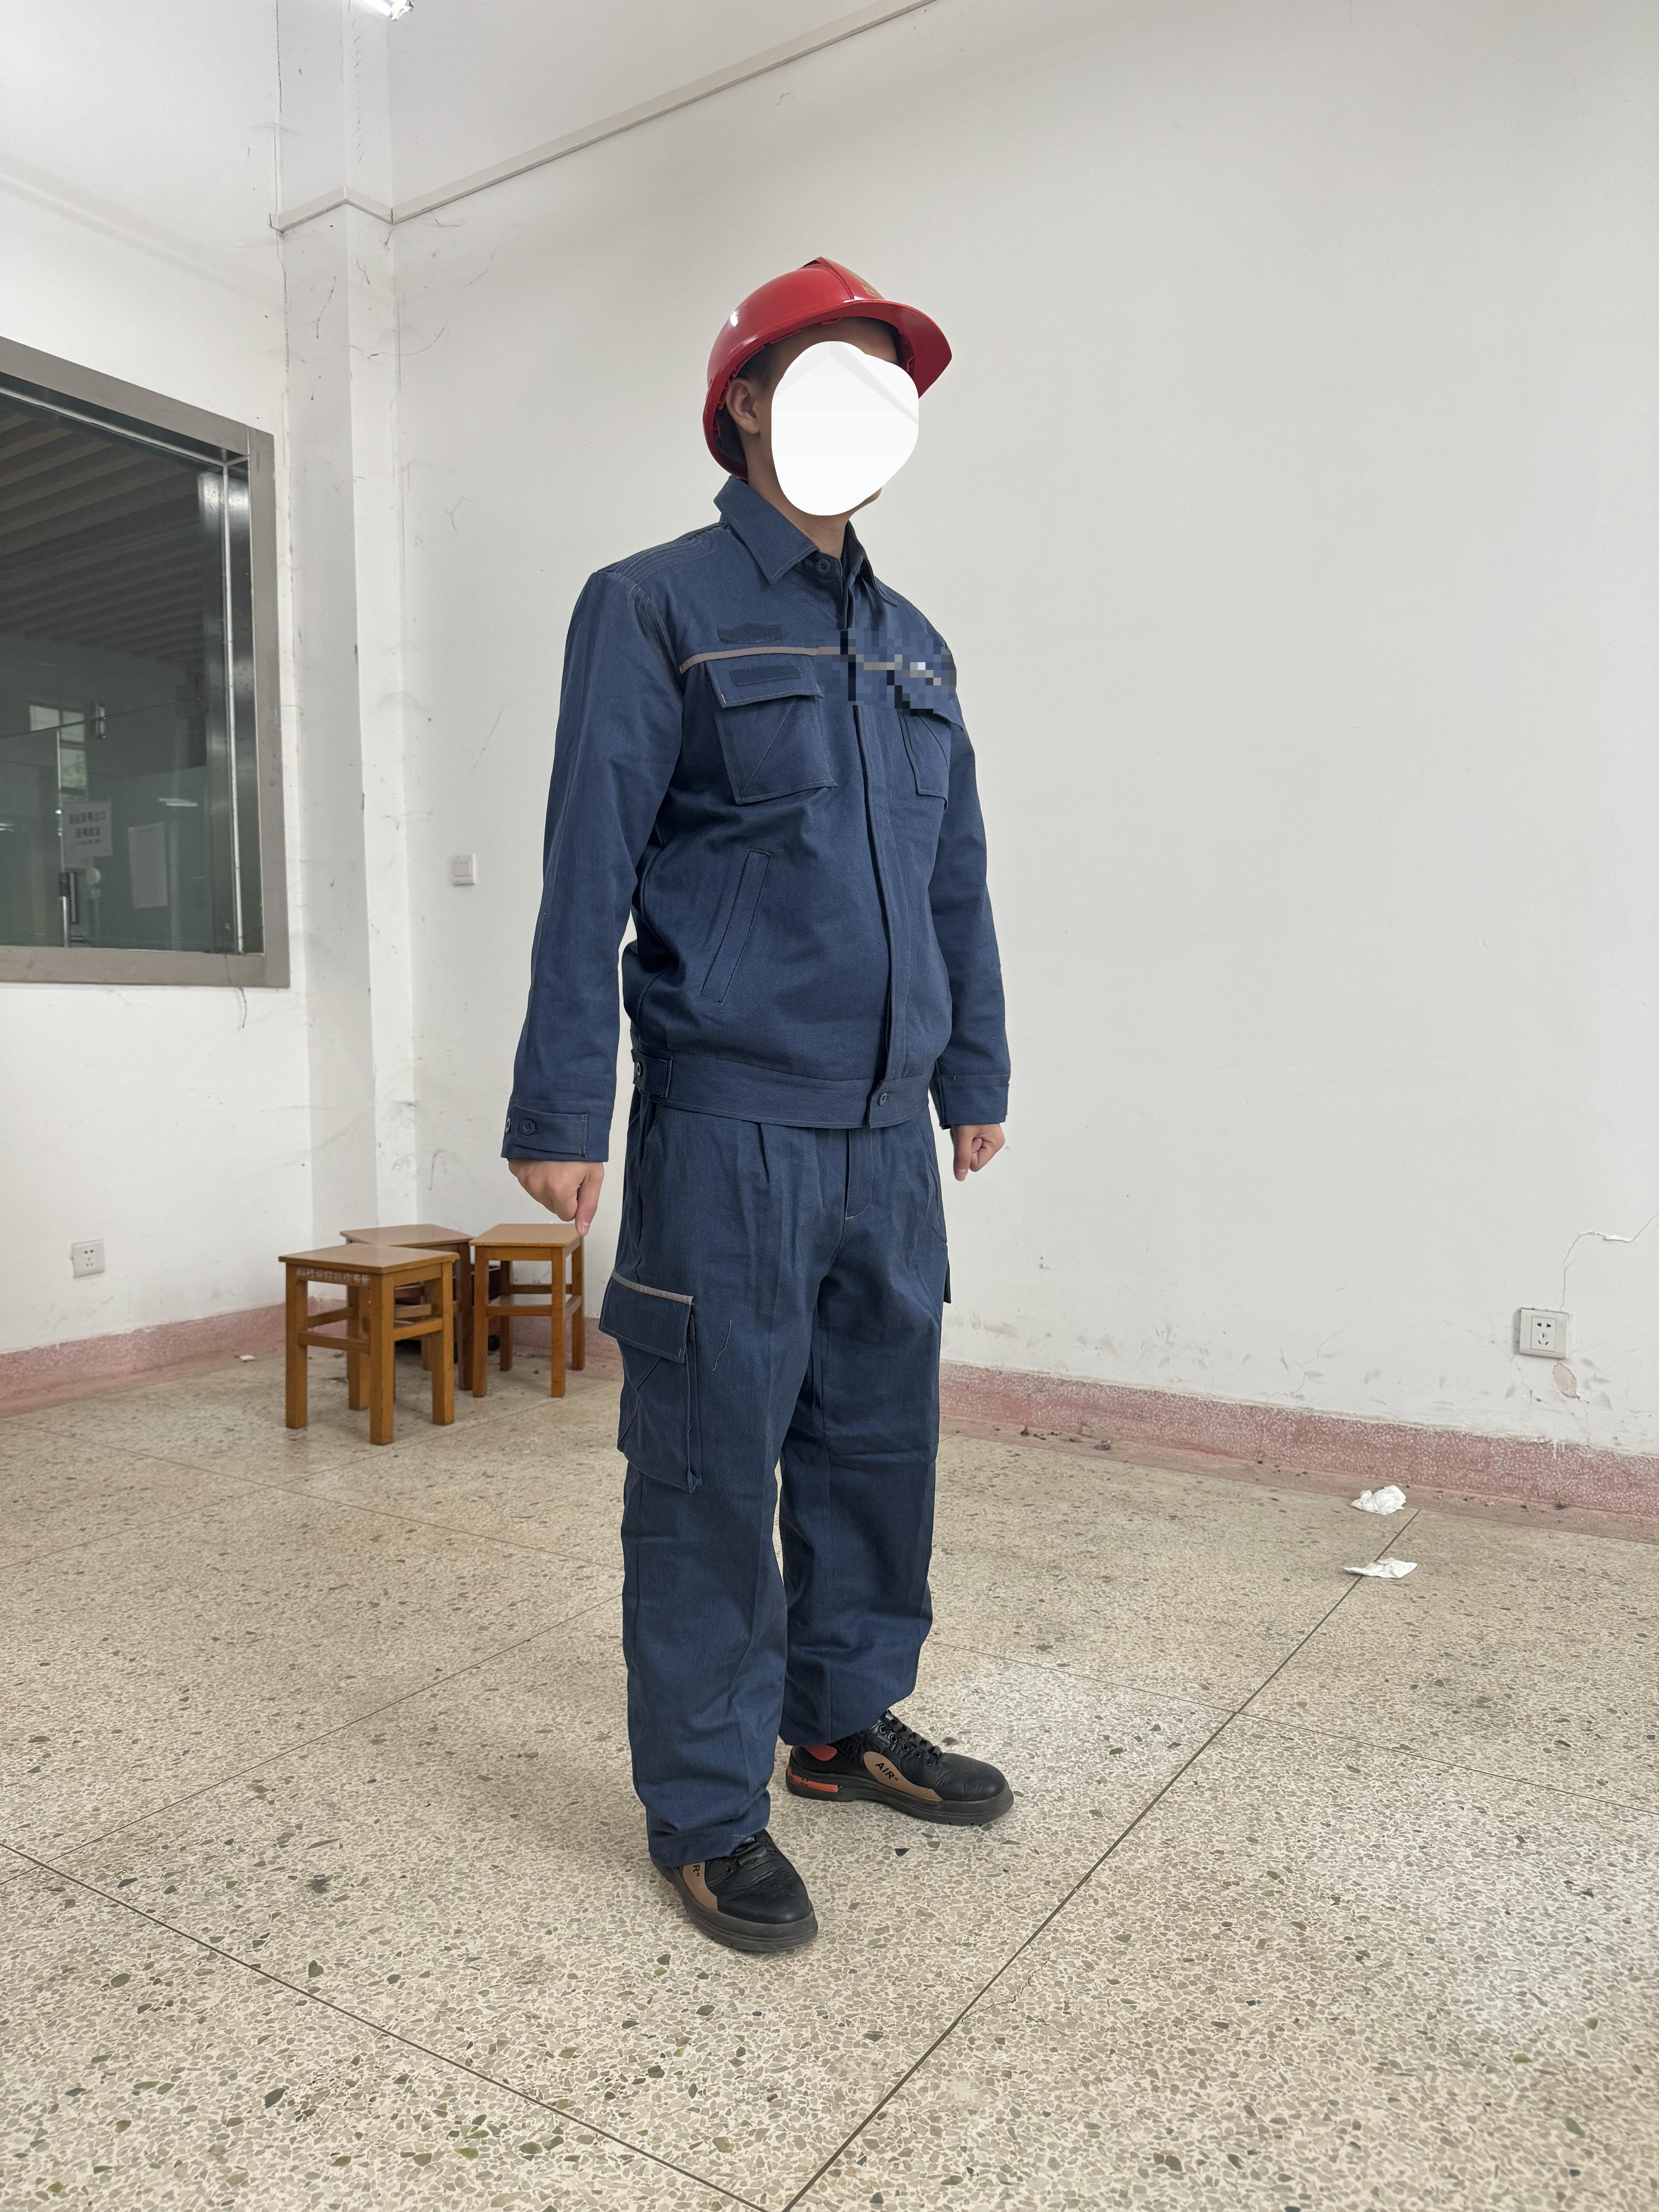halt: (701, 253, 955, 512)
noear: (708, 364, 775, 449)
